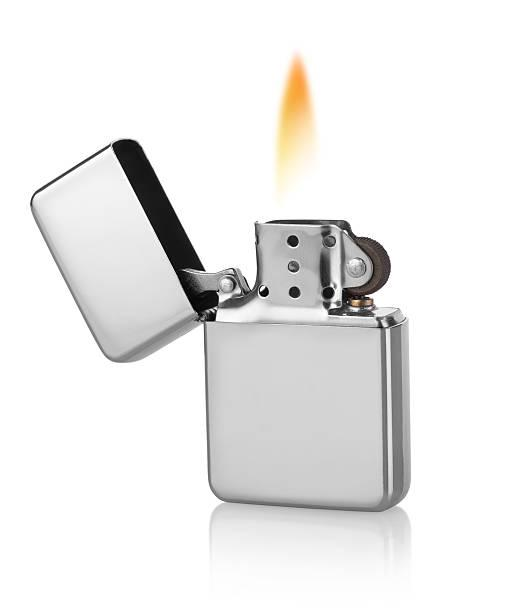Fire: (275, 50, 325, 208)
